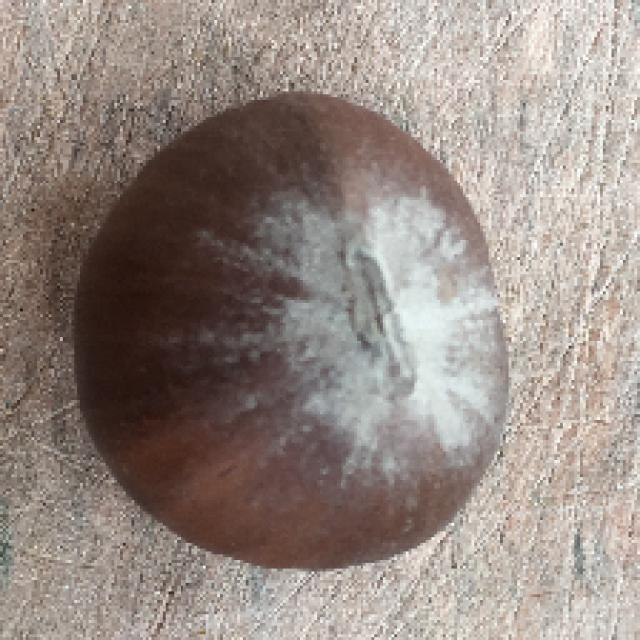DamagedHazelnut: (72, 92, 516, 569)
